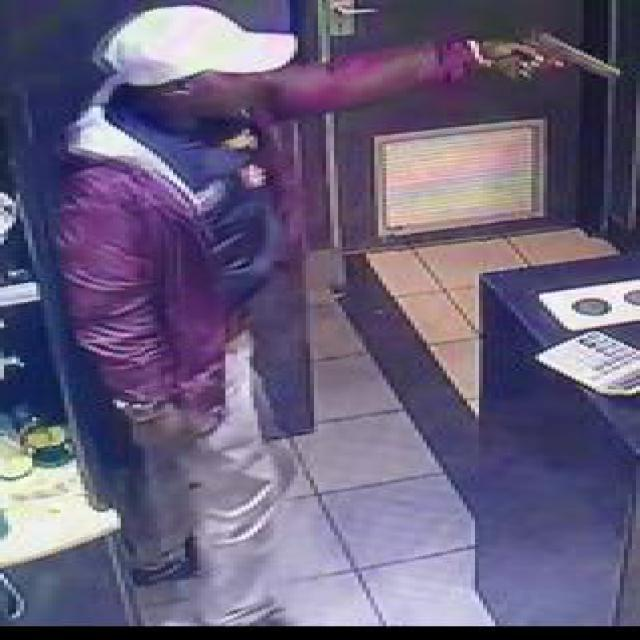Gun: (479, 26, 632, 84)
